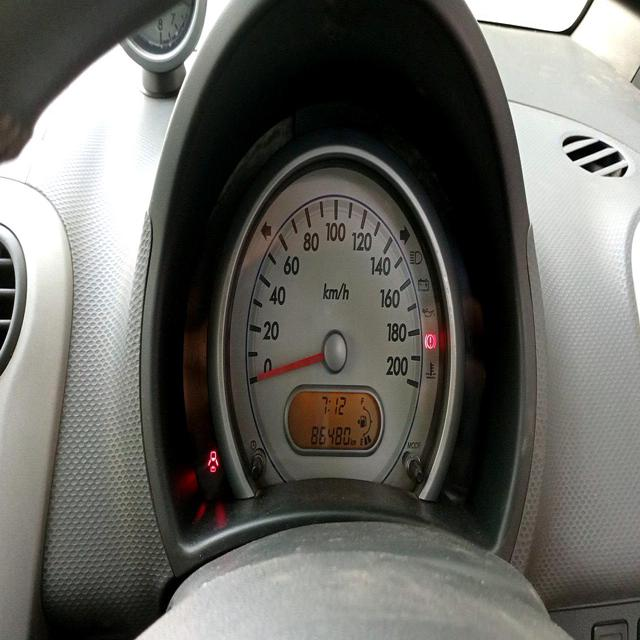odometer: (307, 421, 351, 447)
